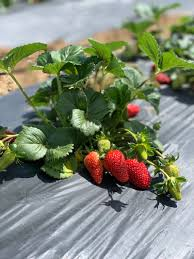ripe: (122, 155, 151, 192), (102, 148, 130, 183), (122, 101, 139, 120), (153, 70, 171, 85)
unripe: (82, 150, 105, 183), (97, 134, 110, 153)
